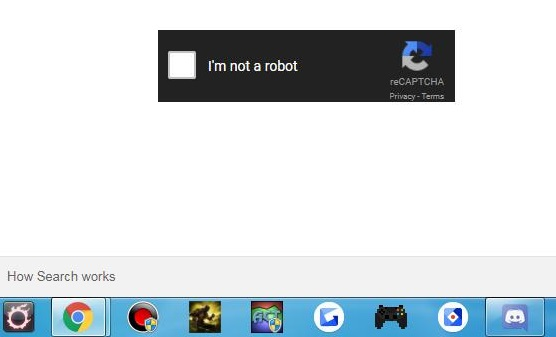captcha: (168, 50, 302, 79)
